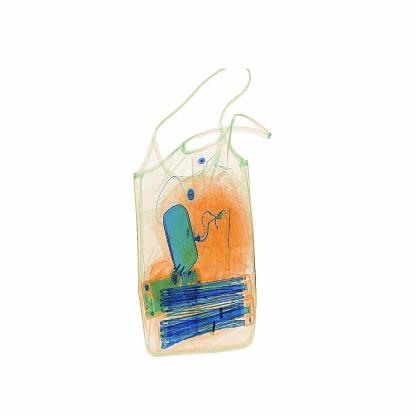pliers: (224, 198, 242, 275)
